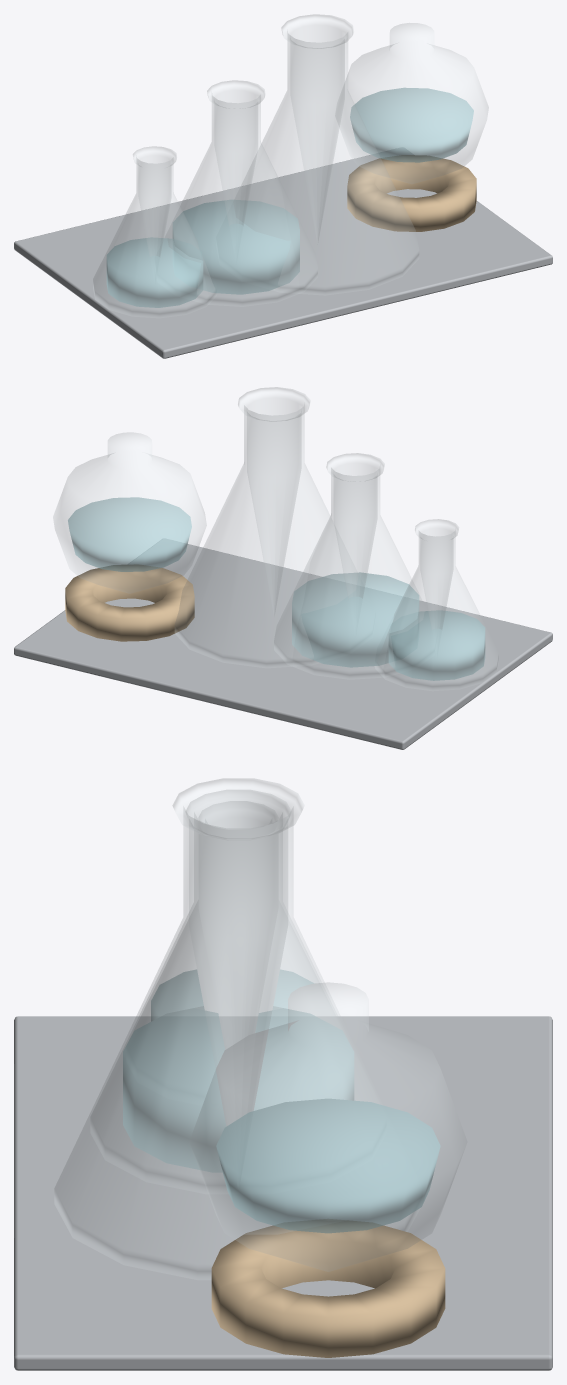
The model's file is flask-set.glb.
The picture shows the model from 3 angles, top to bottom: view 1: azimuth 30°, elevation 25°; view 2: azimuth 150°, elevation 25°; view 3: azimuth 270°, elevation 25°; orthographic projection. The views are drawn at different scales.
Visible parts, largest first — view 1: flask-set; view 2: flask-set; view 3: flask-set.
Boxes of the visible parts, x1=… form: flask-set: x1=14, y1=14, x2=552, y2=358; flask-set: x1=14, y1=387, x2=552, y2=749; flask-set: x1=14, y1=778, x2=552, y2=1370.
Size of the model in its own units: 0.372 by 0.204 by 0.24.
